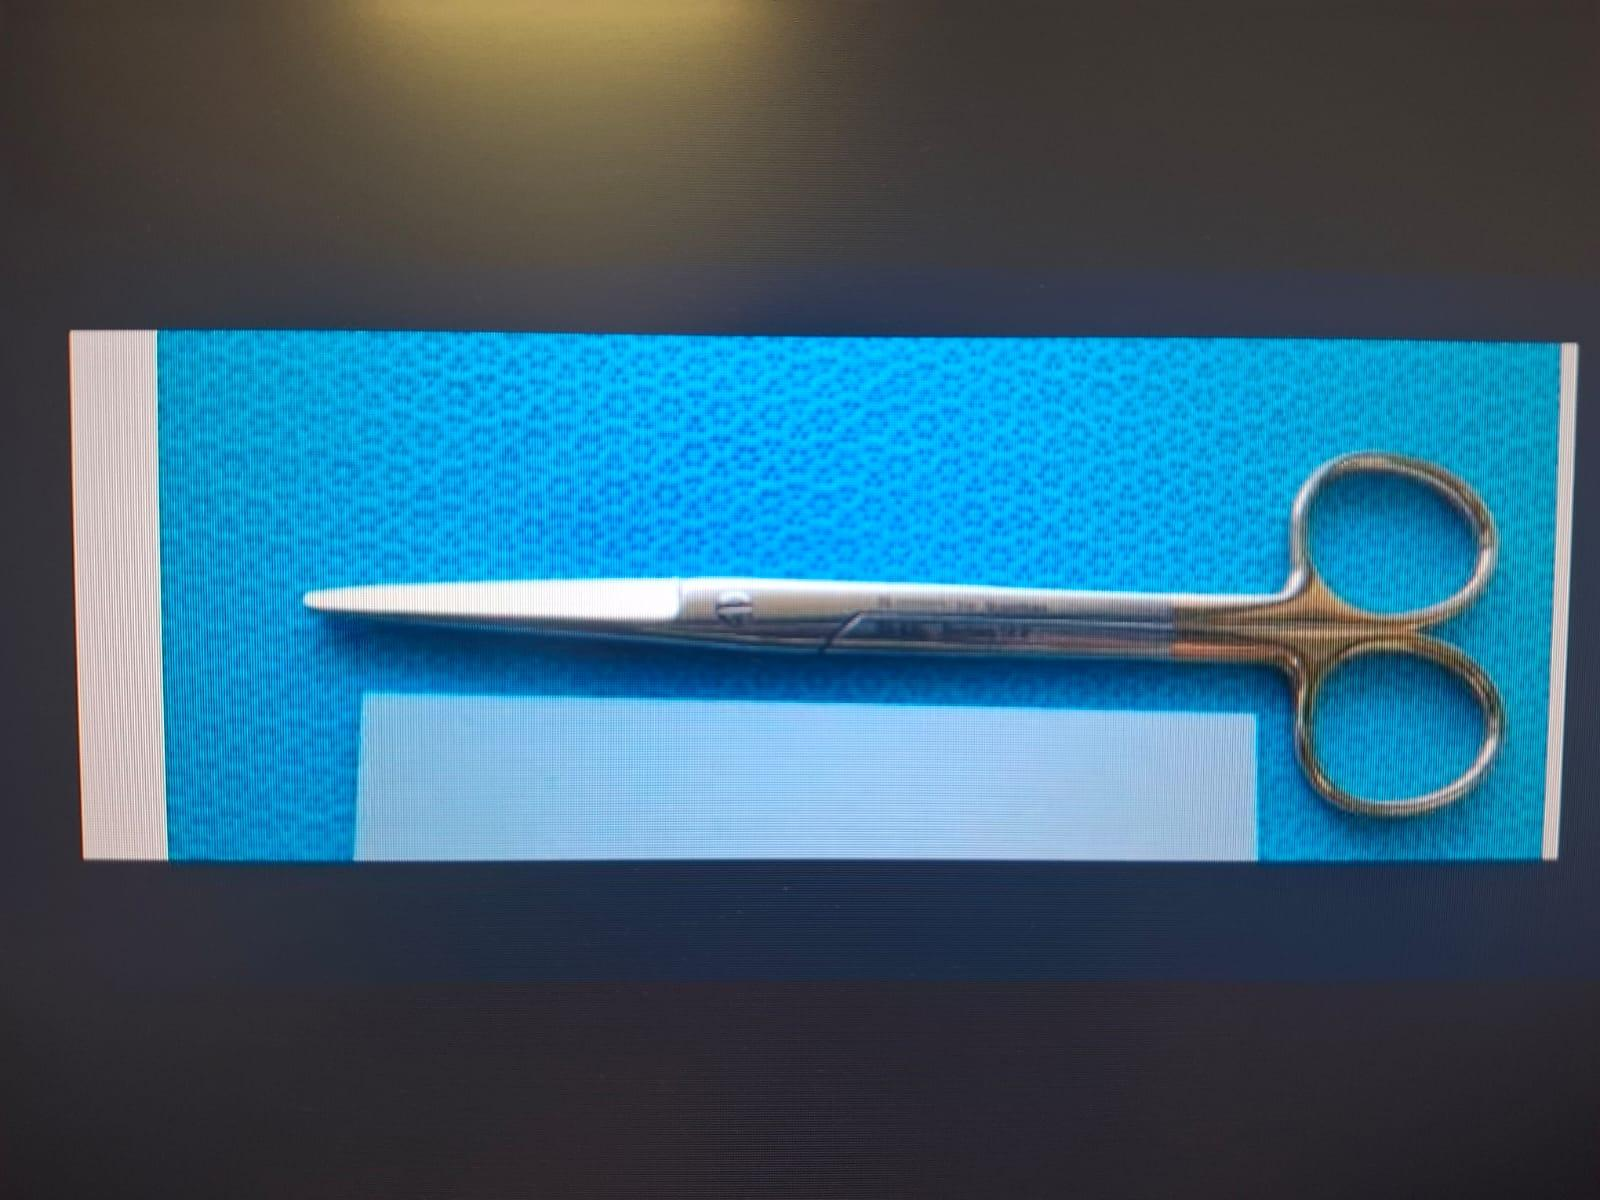Straight Mayo: (299, 426, 1519, 829)
